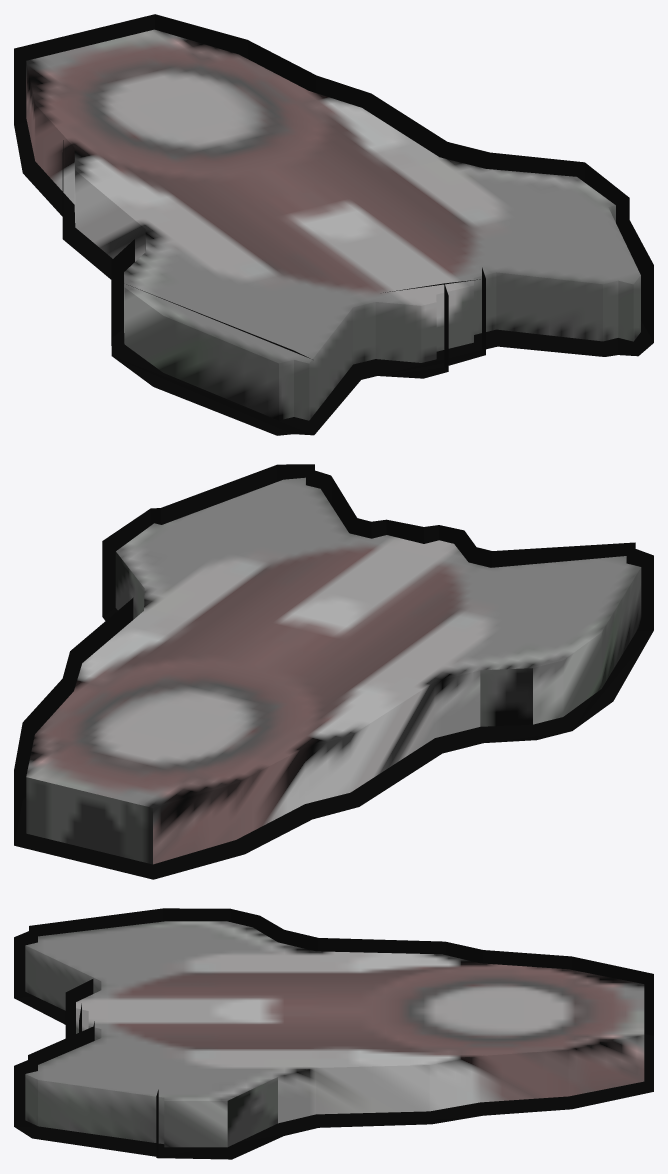
The model's file is Building_PollutionPump_Things_Building_Production_PollutionPump.glb.
The picture shows the model from 3 angles, top to bottom: view 1: azimuth 30°, elevation 25°; view 2: azimuth 150°, elevation 25°; view 3: azimuth 270°, elevation 25°; orthographic projection. The views are drawn at different scales.
Visible parts, largest first — view 1: Body, Outline; view 2: Body, Outline; view 3: Body, Outline.
Boxes of the visible parts, x1,y1,x2,y2 form: Body: [26, 29, 640, 420]; Outline: [14, 14, 653, 435]; Body: [26, 477, 641, 864]; Outline: [14, 464, 653, 879]; Body: [25, 921, 644, 1147]; Outline: [14, 908, 653, 1159].
Bounding box in the file's own units: 0.9826 × 0.1672 × 1.41.
Materials: 2 (1 with a texture image).
